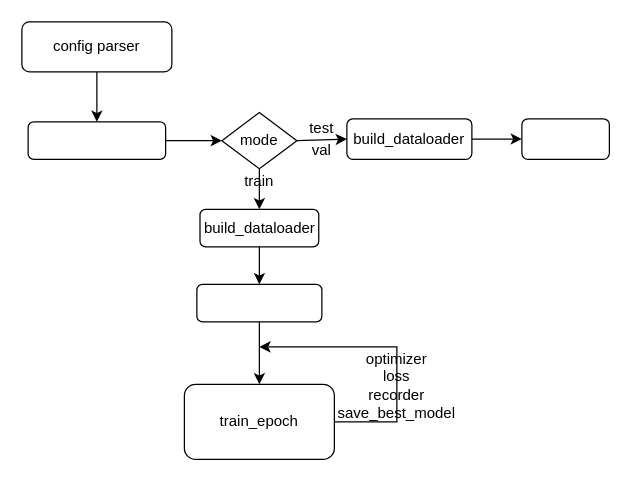
Some shapes in this 631 by 481 pixel diagram are drawn without their labels. The shapes that lost their labels are listed below. From the top down, each one's box as (x1, y1, x2, y2) in pixels, then its label:
(27, 121, 166, 159): Runner
(521, 118, 609, 159): evaluate
(196, 283, 322, 322): build_dataset
